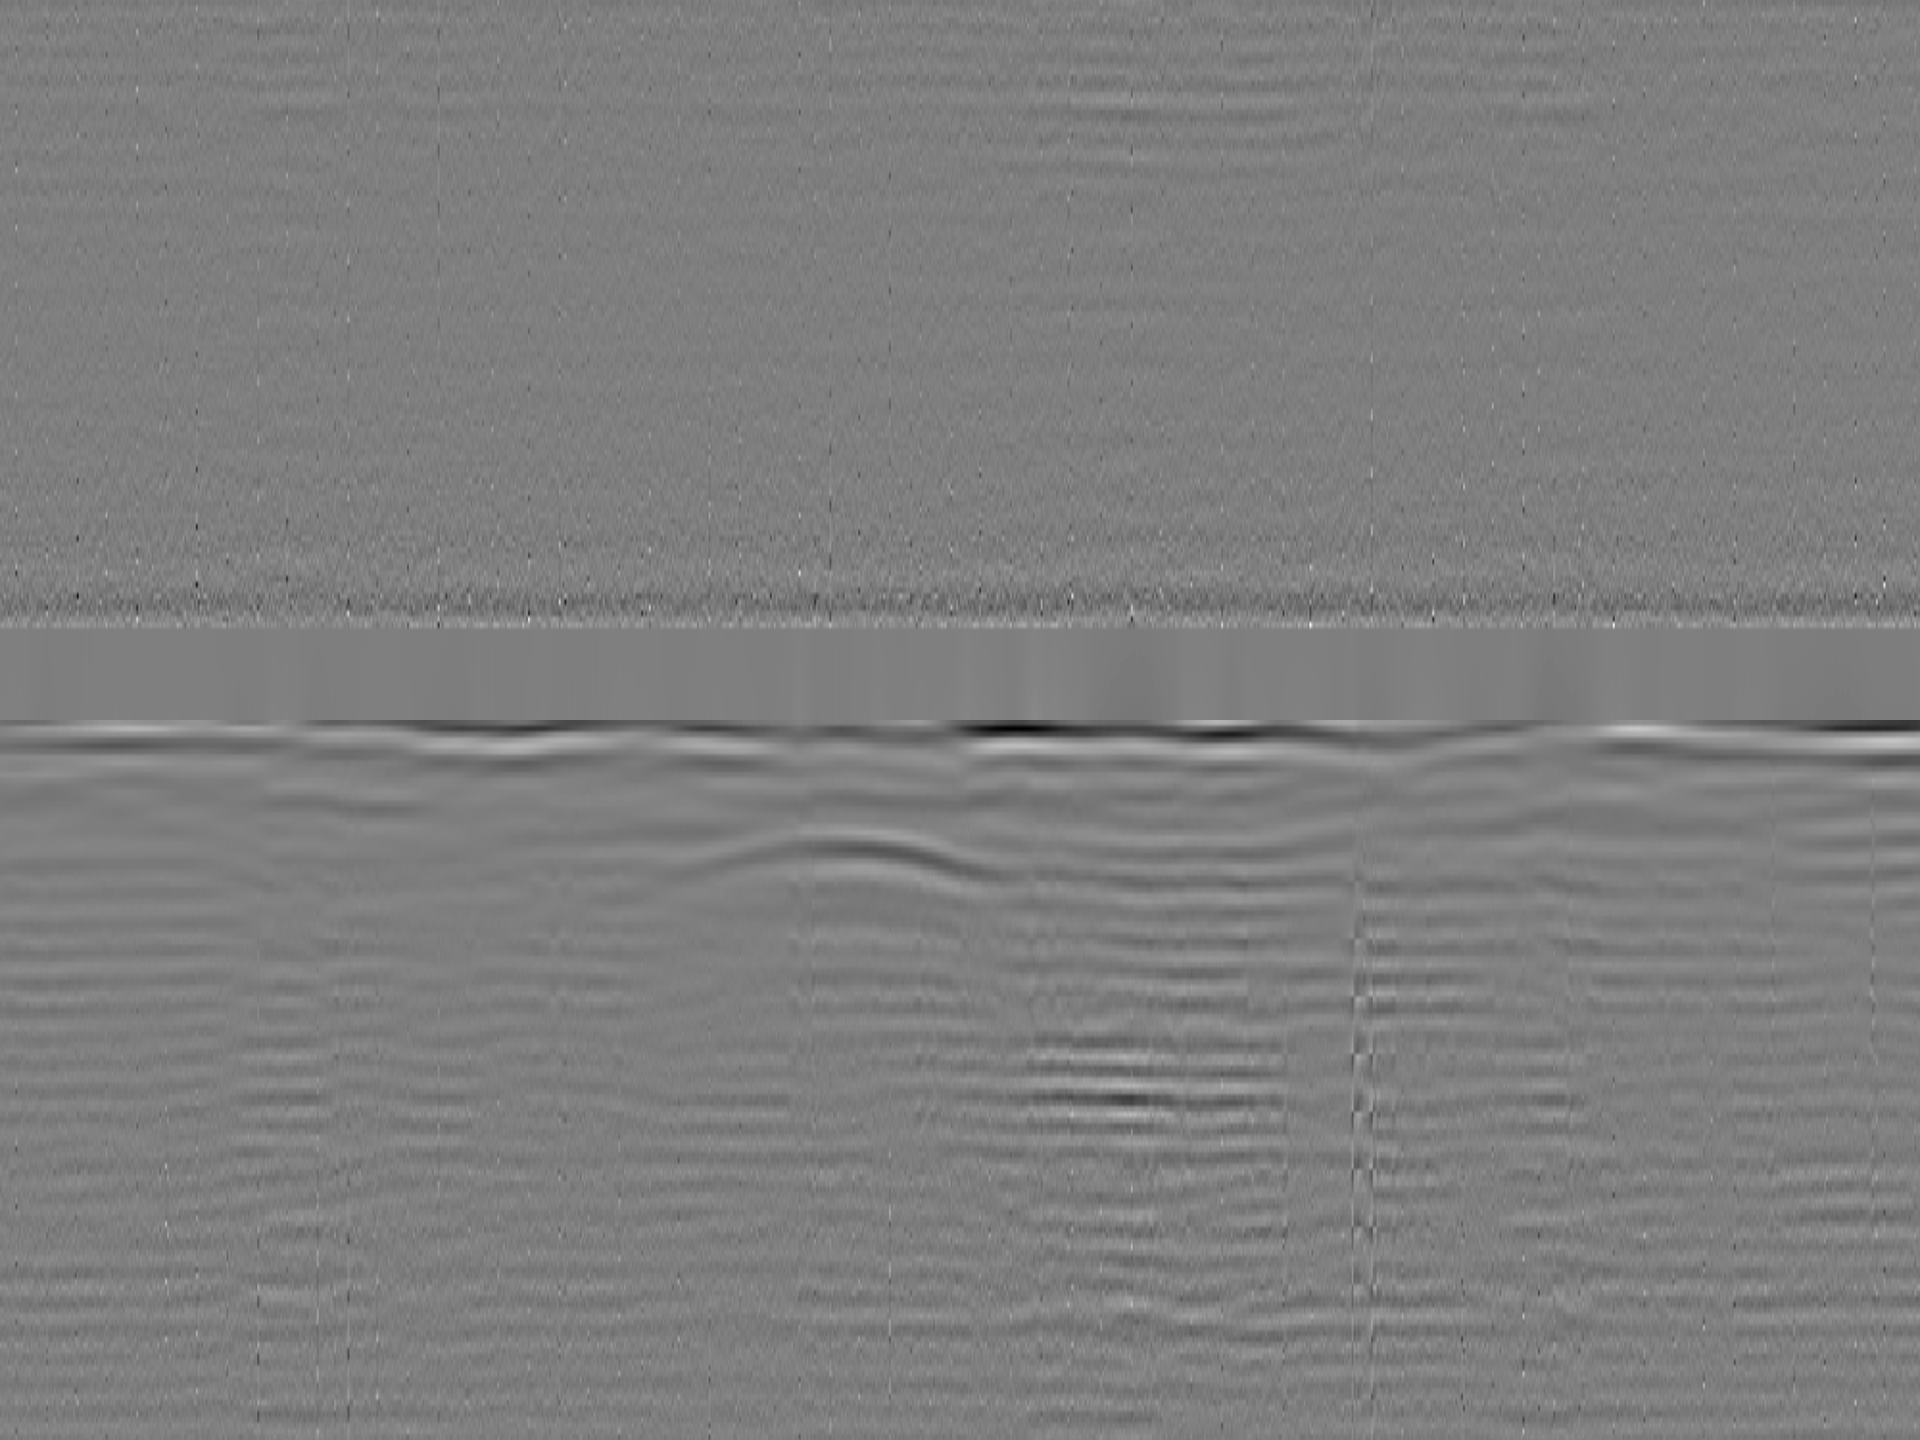Tunnel: (596, 821, 1051, 908)
